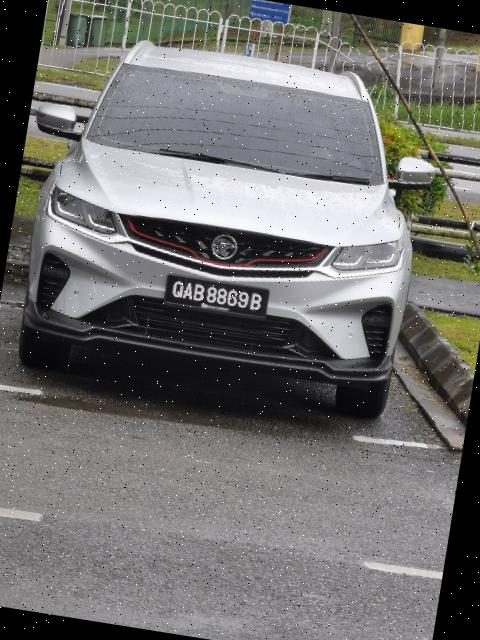License_Plate: (165, 274, 271, 319)
car: (1, 15, 454, 431)
